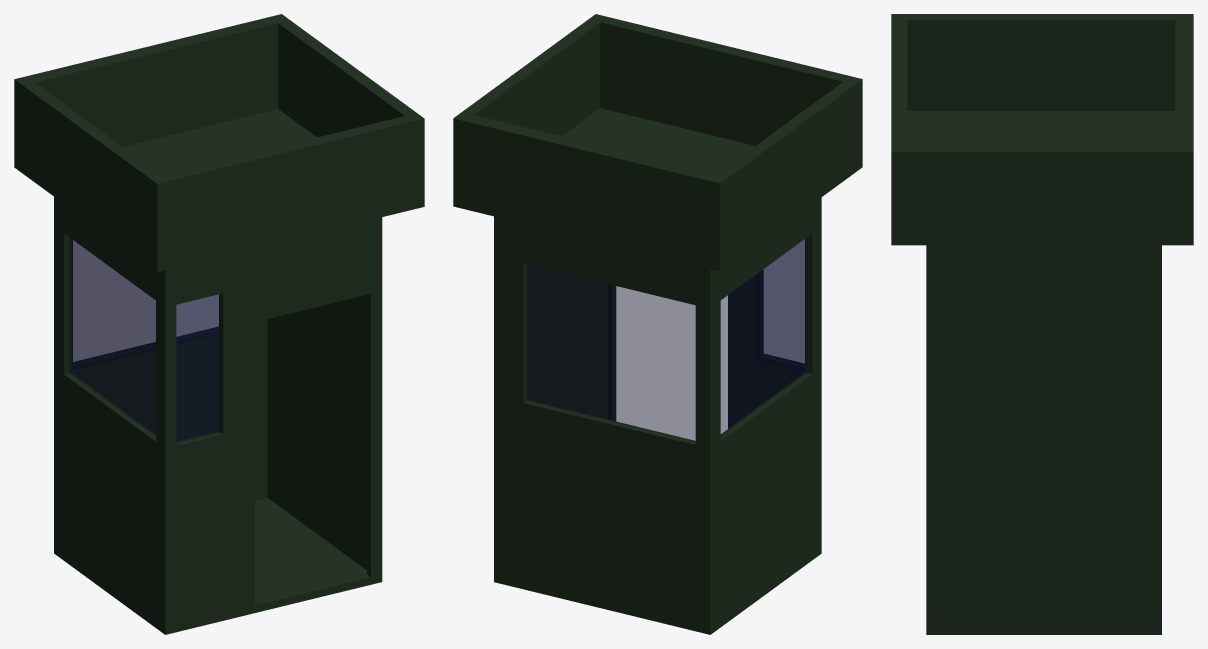
3 views of the same model, side by side, from view 1: azimuth 30°, elevation 25°; view 2: azimuth 150°, elevation 25°; view 3: azimuth 270°, elevation 25° (orthographic). The views are drawn at different scales.
Parts seen in each view (by area): view 1: enclosure, tray, side_panel, rear_panel, front_panel; view 2: enclosure, tray, rear_panel, side_panel, front_panel; view 3: enclosure, tray.
Boxes of the visible parts, x1,y1,x2,y2 form: enclosure: [54, 197, 382, 634]; tray: [14, 14, 424, 271]; side_panel: [69, 237, 155, 436]; rear_panel: [72, 240, 218, 369]; front_panel: [176, 294, 219, 442]; enclosure: [494, 197, 821, 634]; tray: [453, 14, 862, 271]; rear_panel: [526, 264, 695, 441]; side_panel: [721, 238, 806, 435]; front_panel: [758, 239, 804, 370]; enclosure: [926, 245, 1161, 634]; tray: [891, 14, 1193, 245].
Bounding box in the file's own units: 1.49 × 2.5 × 1.38.
